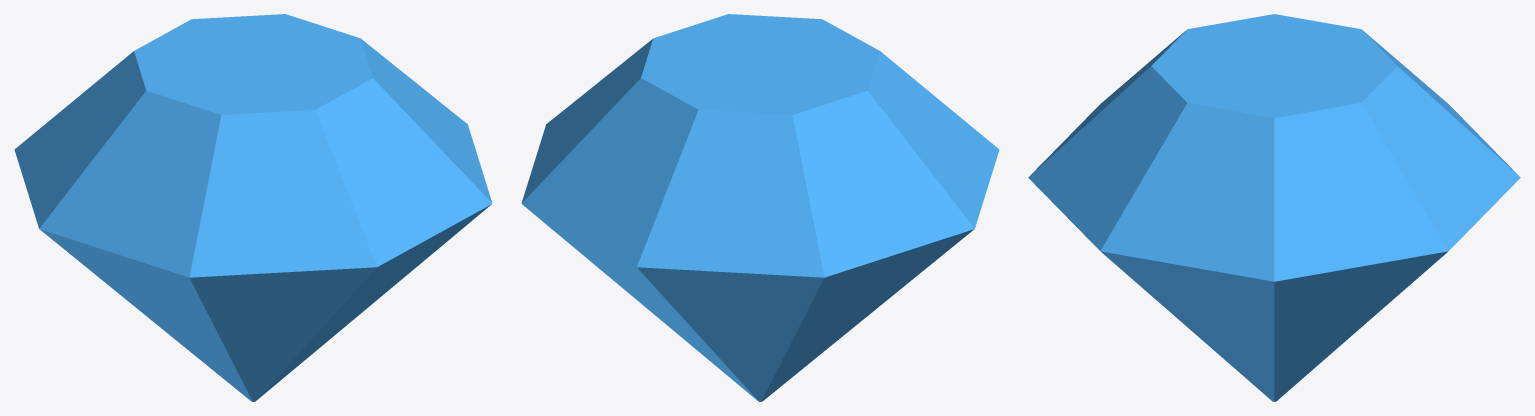
File: diamond.glb
3 renders of one model, left to right at view 1: azimuth 30°, elevation 25°; view 2: azimuth 150°, elevation 25°; view 3: azimuth 270°, elevation 25°, orthographic.
Parts seen in each view (by area): view 1: Cylinder; view 2: Cylinder; view 3: Cylinder.
Boxes of the visible parts, x1,y1,x2,y2 form: Cylinder: (14, 14, 492, 401); Cylinder: (521, 14, 999, 401); Cylinder: (1028, 14, 1520, 401).
Bounding box in the file's own units: 2 × 1.5 × 2.
